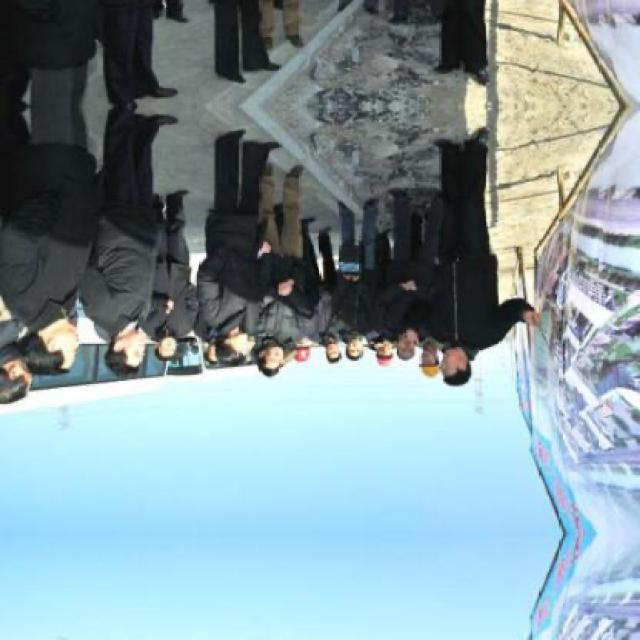sin casco: (16, 297, 94, 379), (92, 321, 174, 379), (438, 347, 512, 398), (230, 332, 290, 390), (210, 317, 274, 360), (140, 321, 183, 364)
